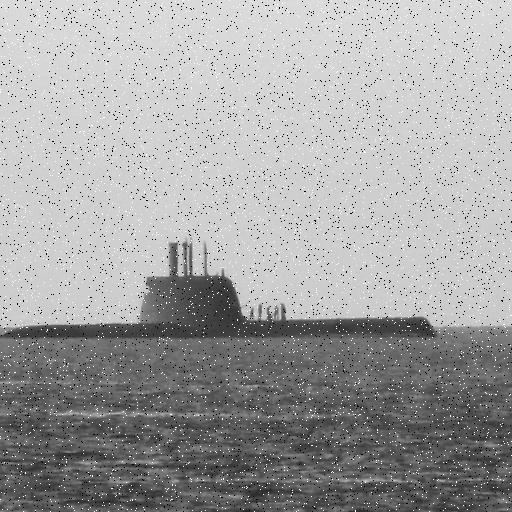submarine: (1, 231, 447, 341)
